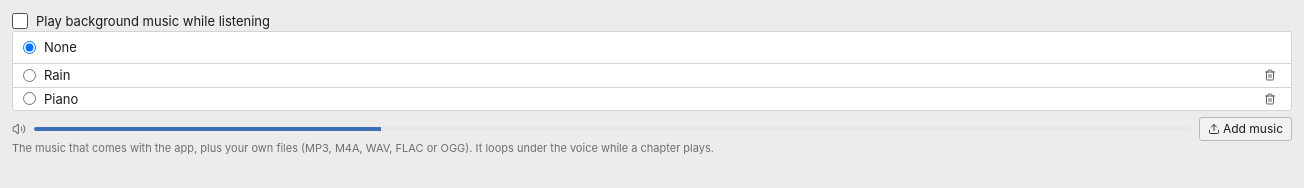
Test: MusicPicker › shows an error when removal fails and keeps the track
Step 1. Click the button named "Remove Rain" → (1270, 75), box [1255, 66, 1285, 84]
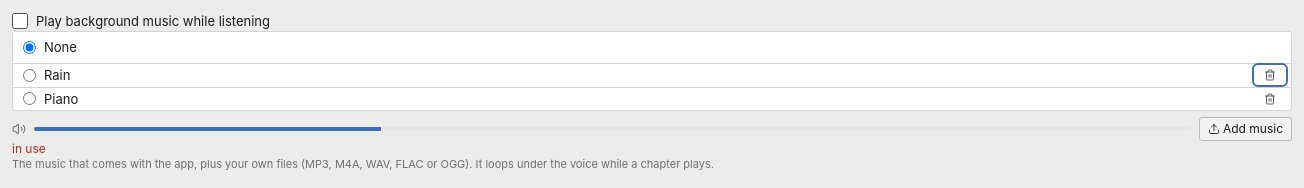
Check: the radio button labelled "Rain" is shown, box [23, 69, 36, 82]
Check: the message reads "in use", box [12, 141, 46, 156]
